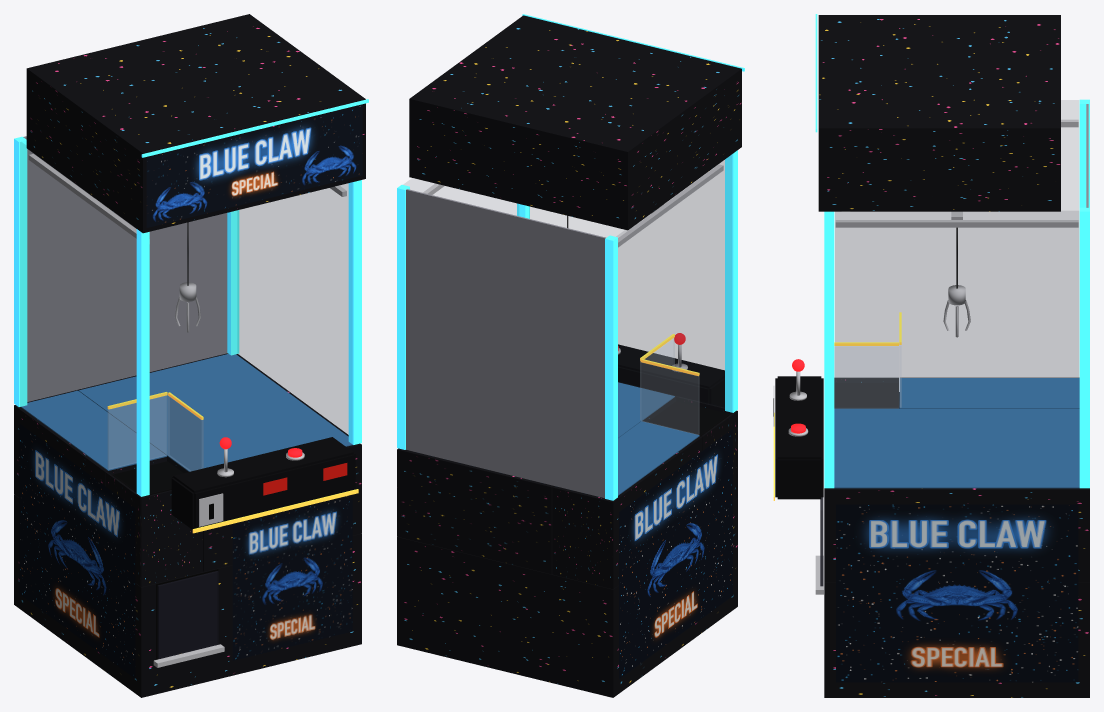
File: claw_crab.glb
3 views of the same model, side by side, from view 1: azimuth 30°, elevation 25°; view 2: azimuth 150°, elevation 25°; view 3: azimuth 270°, elevation 25° (orthographic). The views are drawn at different scales.
Parts seen in each view (by area): view 1: marquee_box.002, mirror_back.002, art_side_L.002, art_front.002, pit_floor_a.002, marquee.002, base.002, deck.002, pit_floor_b.002, prize_mouth.002, prize_door.002, base_skin_f.002 (+15 smaller); view 2: mirror_back.002, marquee_box.002, base.002, art_side_L.002, base_up_a.002, base_up_b.002, deck.002, chute_wall_x.002, post3.002, post0.002, pit_floor_b.002, post2.002 (+4 smaller); view 3: marquee_box.002, art_side_R.002, pit_floor_a.002, base.002, base_up_a.002, deck.002, pit_floor_b.002, chute_wall_y.002, post2.002, post1.002, rail_R.002, chute_well.002 (+1 smaller).
Part boxes in pixels (<box>): marquee_box.002: <box>26,14,365,233</box>; mirror_back.002: <box>23,136,227,401</box>; art_side_L.002: <box>19,423,135,678</box>; art_front.002: <box>232,496,352,660</box>; pit_floor_a.002: <box>78,354,352,471</box>; marquee.002: <box>146,105,362,227</box>; base.002: <box>14,494,361,697</box>; deck.002: <box>171,437,355,529</box>; pit_floor_b.002: <box>21,390,166,470</box>; prize_mouth.002: <box>156,569,218,659</box>; prize_door.002: <box>157,571,218,658</box>; base_skin_f.002: <box>140,490,203,586</box>; mirror_back.002: <box>406,189,605,498</box>; marquee_box.002: <box>409,15,741,230</box>; base.002: <box>397,498,737,697</box>; art_side_L.002: <box>619,429,732,678</box>; base_up_a.002: <box>397,381,676,574</box>; base_up_b.002: <box>552,436,702,589</box>; deck.002: <box>618,344,724,407</box>; chute_wall_x.002: <box>641,362,699,434</box>; post3.002: <box>605,235,617,500</box>; post0.002: <box>725,150,737,412</box>; pit_floor_b.002: <box>618,421,699,495</box>; post2.002: <box>397,184,409,449</box>; marquee_box.002: <box>818,15,1060,211</box>; art_side_R.002: <box>836,504,1078,682</box>; pit_floor_a.002: <box>834,408,1079,488</box>; base.002: <box>824,582,1089,697</box>; base_up_a.002: <box>824,488,1089,582</box>; deck.002: <box>775,376,823,499</box>; pit_floor_b.002: <box>899,378,1079,408</box>; chute_wall_y.002: <box>834,346,898,408</box>; post2.002: <box>1079,207,1089,488</box>; post1.002: <box>824,211,834,488</box>; rail_R.002: <box>835,220,1078,227</box>; chute_well.002: <box>834,383,898,408</box>.
Bounding box in the file's own units: 0.944 × 2.18 × 1.1.
18 materials, 4 textured.
